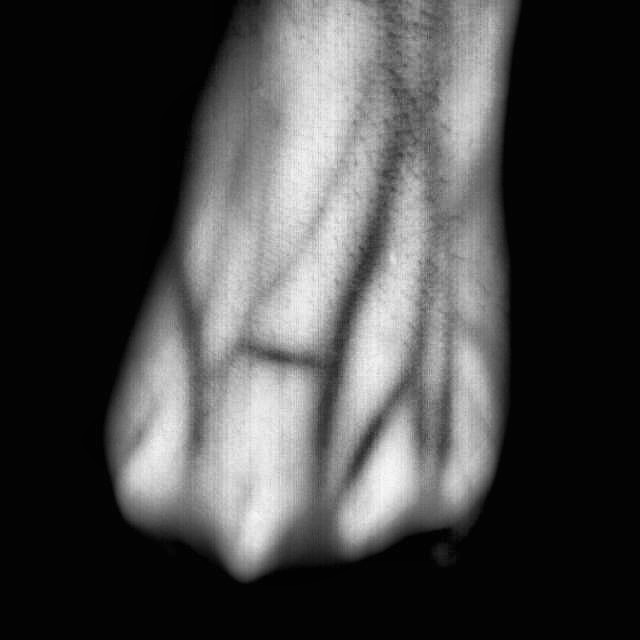Vein: (242, 117, 407, 445)
